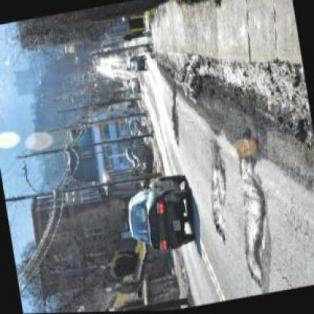Hueco: (230, 174, 279, 295), (202, 162, 237, 246), (168, 100, 184, 148)
